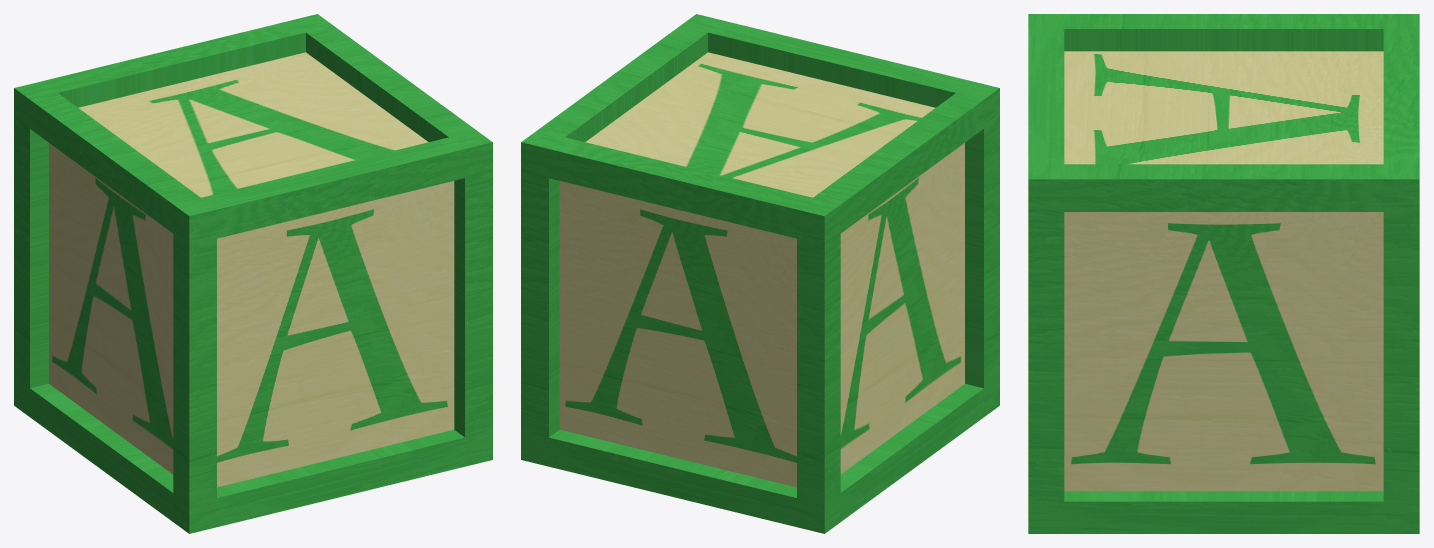
The model's file is block.FBX.
The picture shows the model from 3 angles, left to right: view 1: azimuth 30°, elevation 25°; view 2: azimuth 150°, elevation 25°; view 3: azimuth 270°, elevation 25°; orthographic projection. The views are drawn at different scales.
Visible parts, largest first — view 1: Box001; view 2: Box001; view 3: Box001.
Boxes of the visible parts, x1,y1,x2,y2 form: Box001: (14,14,492,533); Box001: (521,14,999,533); Box001: (1028,14,1419,533).
Size of the model in its own units: 4.5 by 4.5 by 4.5.
